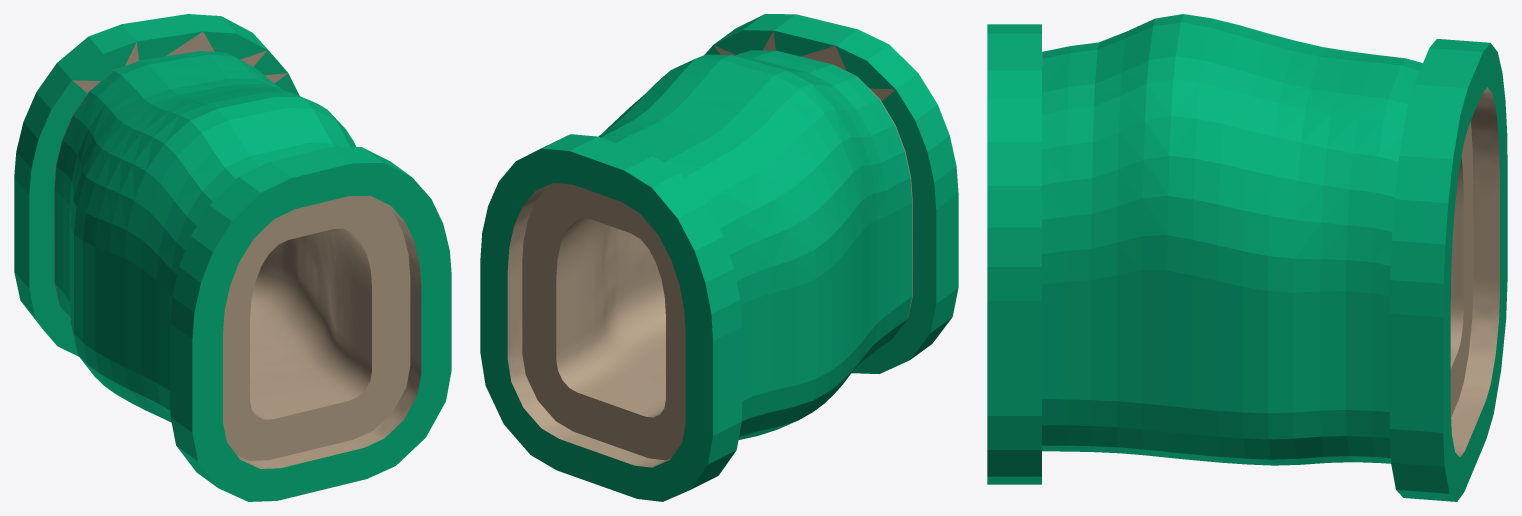
3 views of the same model, side by side, from view 1: azimuth 30°, elevation 25°; view 2: azimuth 150°, elevation 25°; view 3: azimuth 270°, elevation 25° (orthographic). The views are drawn at different scales.
Parts seen in each view (by area): view 1: TT_Curve_10_LOD0; view 2: TT_Curve_10_LOD0; view 3: TT_Curve_10_LOD0.
Part boxes in pixels (x1=…): TT_Curve_10_LOD0: x1=14, y1=14, x2=451, y2=501; TT_Curve_10_LOD0: x1=480, y1=14, x2=958, y2=501; TT_Curve_10_LOD0: x1=987, y1=14, x2=1507, y2=501.
Bounding box in the file's own units: 377 × 414 × 477.
